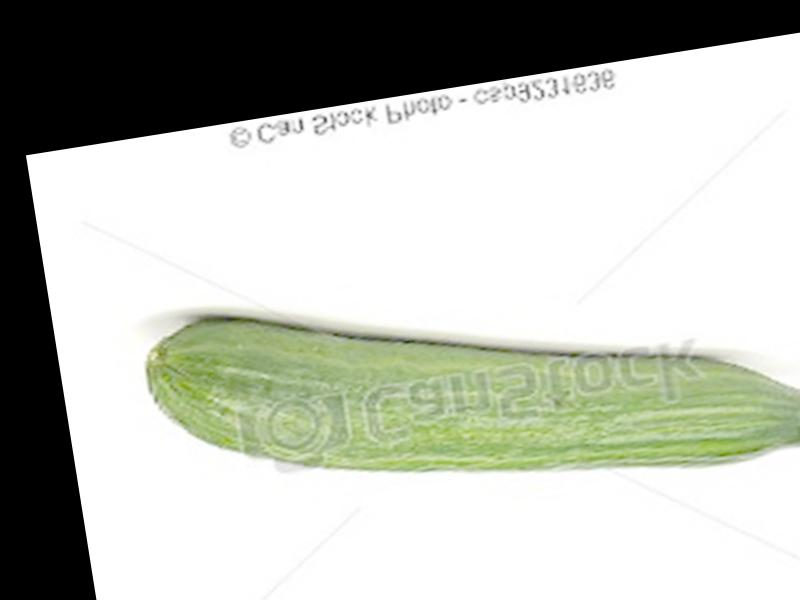Cucumber: (143, 221, 800, 548)
